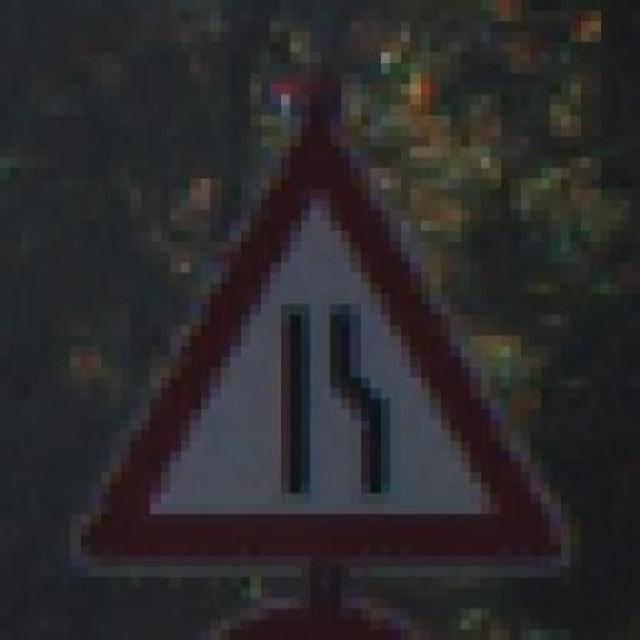-Road narrows on right: (50, 116, 590, 598)
